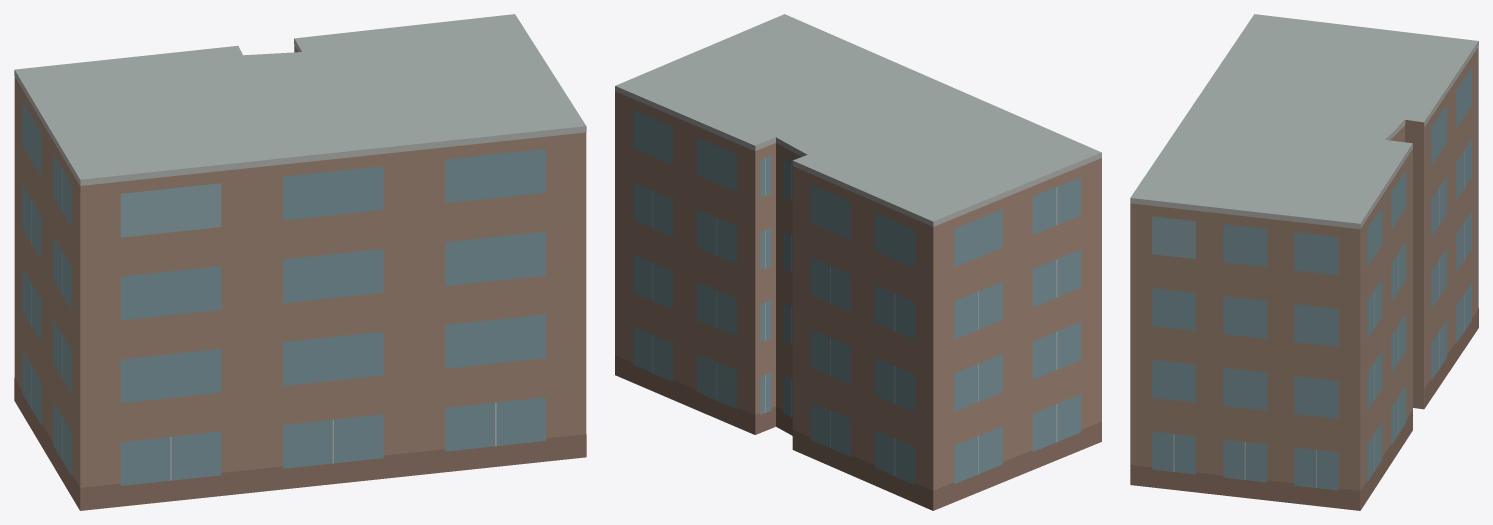
File: survey-upis-32880259.glb
The picture shows the model from 3 angles, left to right: view 1: azimuth 30°, elevation 25°; view 2: azimuth 150°, elevation 25°; view 3: azimuth 270°, elevation 25°; orthographic projection. The views are drawn at different scales.
Parts seen in each view (by area): view 1: survey-upis-32880259.tmp; view 2: survey-upis-32880259.tmp; view 3: survey-upis-32880259.tmp.
Boxes of the visible parts, x1,y1,x2,y2 form: survey-upis-32880259.tmp: [14, 14, 586, 510]; survey-upis-32880259.tmp: [615, 14, 1101, 510]; survey-upis-32880259.tmp: [1130, 14, 1478, 510].
Size of the model in its own units: 20.39 by 13 by 14.32.
